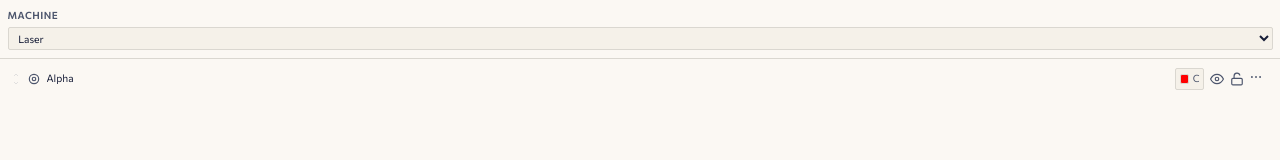
Scenario: LayerTree — inline rename (spec §7) › double-clicking the name shows an input with the text selected
Double-click the text "Alpha" at (60, 78), box [46,72,74,84]
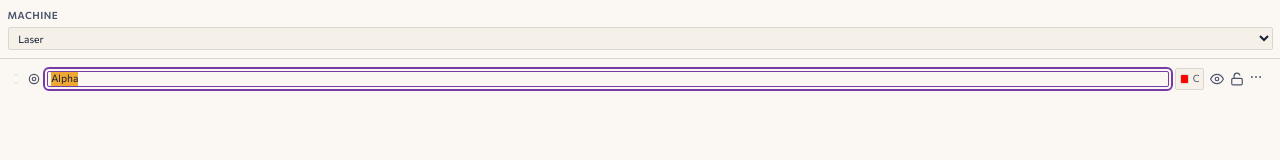
expect the field holds "Alpha": met, box [46,71,1169,87]
